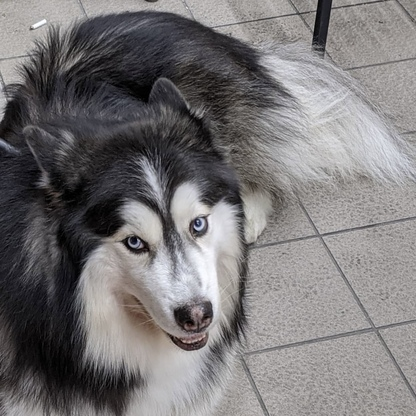husky: (1, 6, 408, 416)
